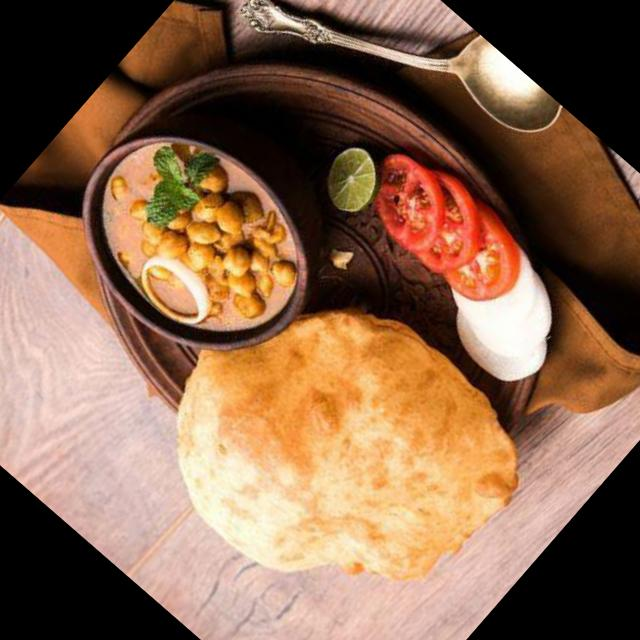Bhatura: (117, 237, 552, 640)
